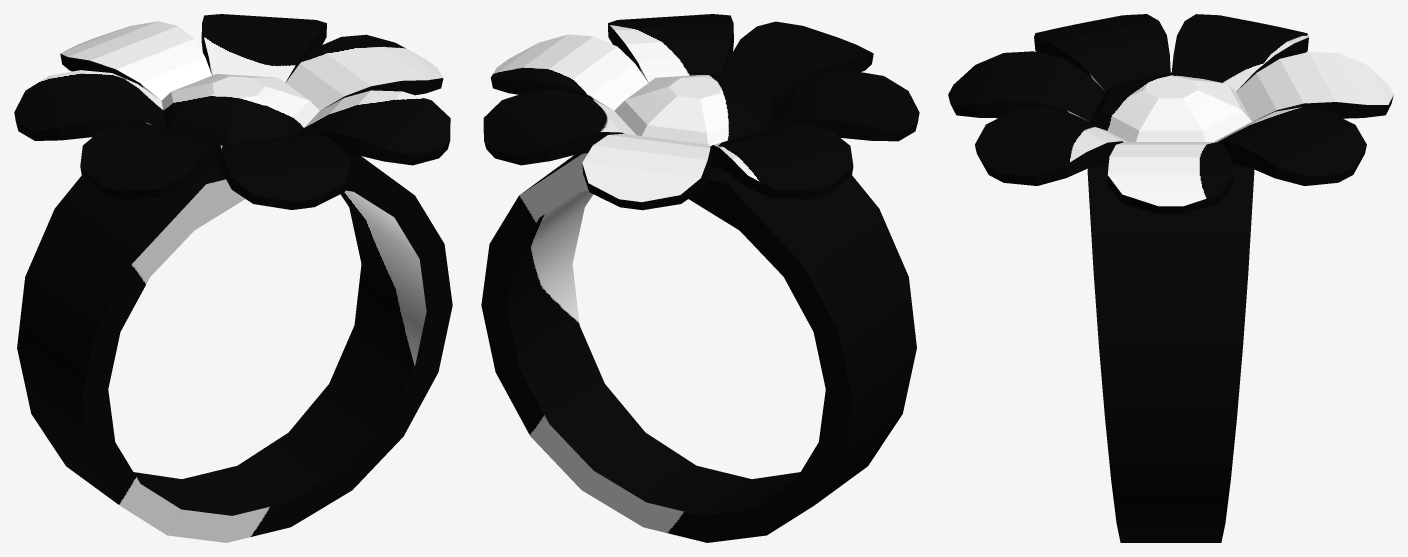
The model's file is ring.fbx.
3 views of the same model, side by side, from view 1: azimuth 30°, elevation 25°; view 2: azimuth 150°, elevation 25°; view 3: azimuth 270°, elevation 25° (orthographic).
Visible parts, largest first — view 1: ring; view 2: ring; view 3: ring.
Part boxes in pixels (box(x1,y1,x2,y2)): ring: box(14, 14, 452, 542); ring: box(481, 14, 919, 542); ring: box(948, 14, 1393, 542).
Size of the model in its own units: 0.246 by 0.2644 by 0.2459.
